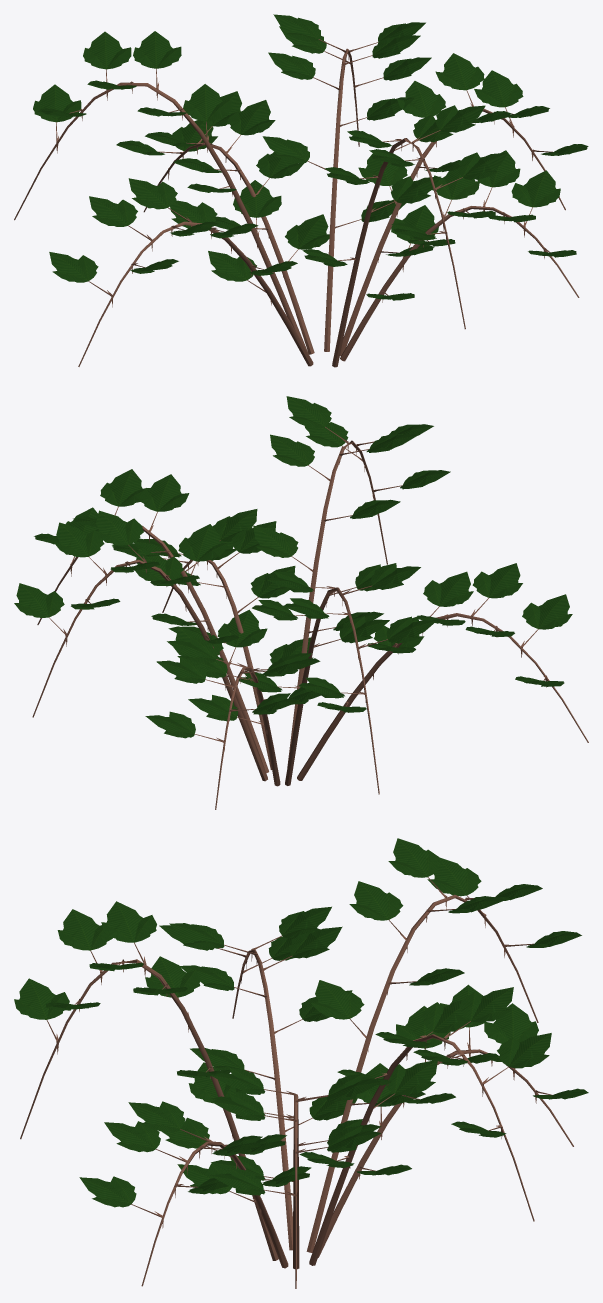
Rendered from Bramble_Clump_01_LOD0.fbx.
3 views of the same model, one above another, from view 1: azimuth 30°, elevation 25°; view 2: azimuth 150°, elevation 25°; view 3: azimuth 270°, elevation 25° (orthographic). The views are drawn at different scales.
Visible parts, largest first — view 1: Bramble_Clump_01_LOD0_Mesh; view 2: Bramble_Clump_01_LOD0_Mesh; view 3: Bramble_Clump_01_LOD0_Mesh.
Part boxes in pixels (x1,y1,x2,y2): Bramble_Clump_01_LOD0_Mesh: [14, 14, 588, 367]; Bramble_Clump_01_LOD0_Mesh: [14, 396, 588, 809]; Bramble_Clump_01_LOD0_Mesh: [14, 838, 588, 1288].
Size of the model in its own units: 165 by 90.58 by 141.
